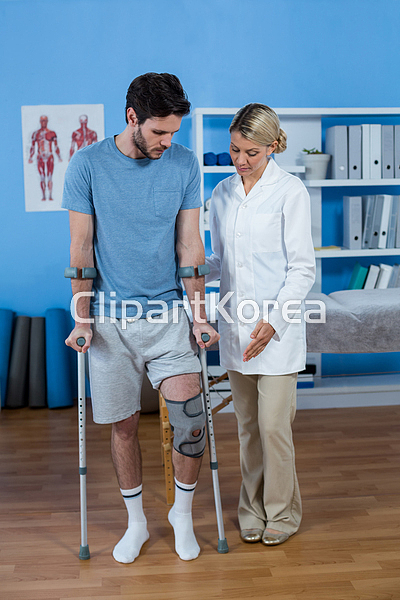crutches: (59, 72, 229, 563)
